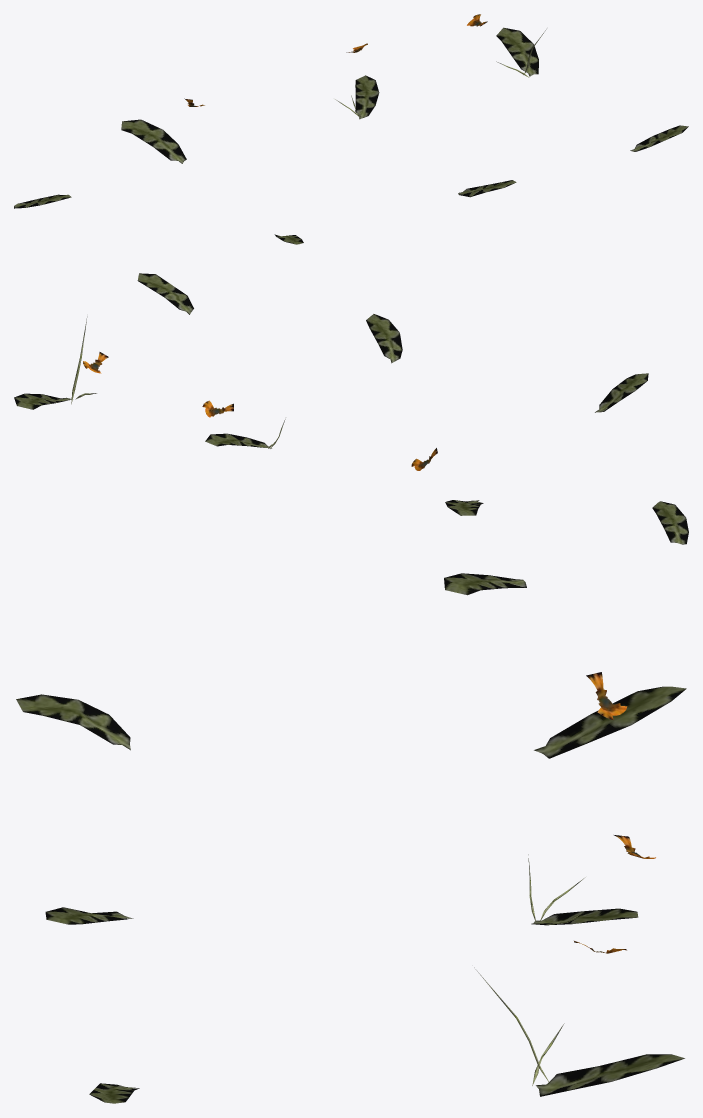
Rendered from fleurs_gazania_lod2.glb.
3 views of the same model, one above another, from view 1: azimuth 30°, elevation 25°; view 2: azimuth 150°, elevation 25°; view 3: azimuth 270°, elevation 25° (orthographic). The views are drawn at different scales.
Parts seen in each view (by area): view 1: flower_gazania_a_LOD0; view 2: flower_gazania_a_LOD0; view 3: flower_gazania_a_LOD0.
Boxes of the visible parts, <box> form: flower_gazania_a_LOD0: <box>14,14,688,244</box>; flower_gazania_a_LOD0: <box>14,273,688,544</box>; flower_gazania_a_LOD0: <box>16,573,686,1103</box>.
Bounding box in the file's own units: 1.33 × 0.143 × 0.6734.
1 material, 1 textured.
